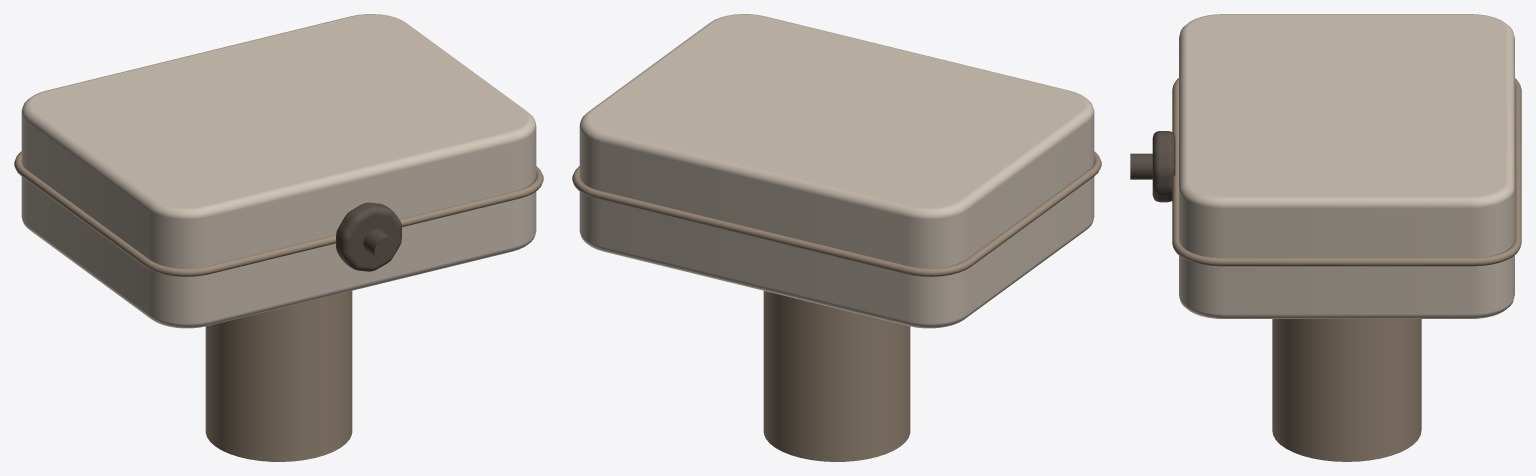
File: neva-bed-set-with-wardrobe--night.glb
The picture shows the model from 3 angles, left to right: view 1: azimuth 30°, elevation 25°; view 2: azimuth 150°, elevation 25°; view 3: azimuth 270°, elevation 25°; orthographic projection.
Visible parts, largest first — view 1: drawer, stem, rim, pull, pullc; view 2: drawer, stem, rim; view 3: drawer, stem, rim, pull, pullc.
Boxes of the visible parts, bbox=[...] form: drawer: bbox=[21, 14, 536, 328]; stem: bbox=[205, 291, 352, 461]; rim: bbox=[14, 151, 543, 276]; pull: bbox=[336, 202, 401, 271]; pullc: bbox=[363, 229, 396, 261]; drawer: bbox=[579, 14, 1094, 328]; stem: bbox=[763, 291, 910, 461]; rim: bbox=[572, 151, 1101, 276]; drawer: bbox=[1179, 14, 1514, 318]; stem: bbox=[1272, 319, 1421, 461]; rim: bbox=[1172, 78, 1521, 266]; pull: bbox=[1152, 131, 1175, 202]; pullc: bbox=[1130, 153, 1152, 179].
Bounding box in the file's own units: 0.618 × 0.48 × 0.524.
